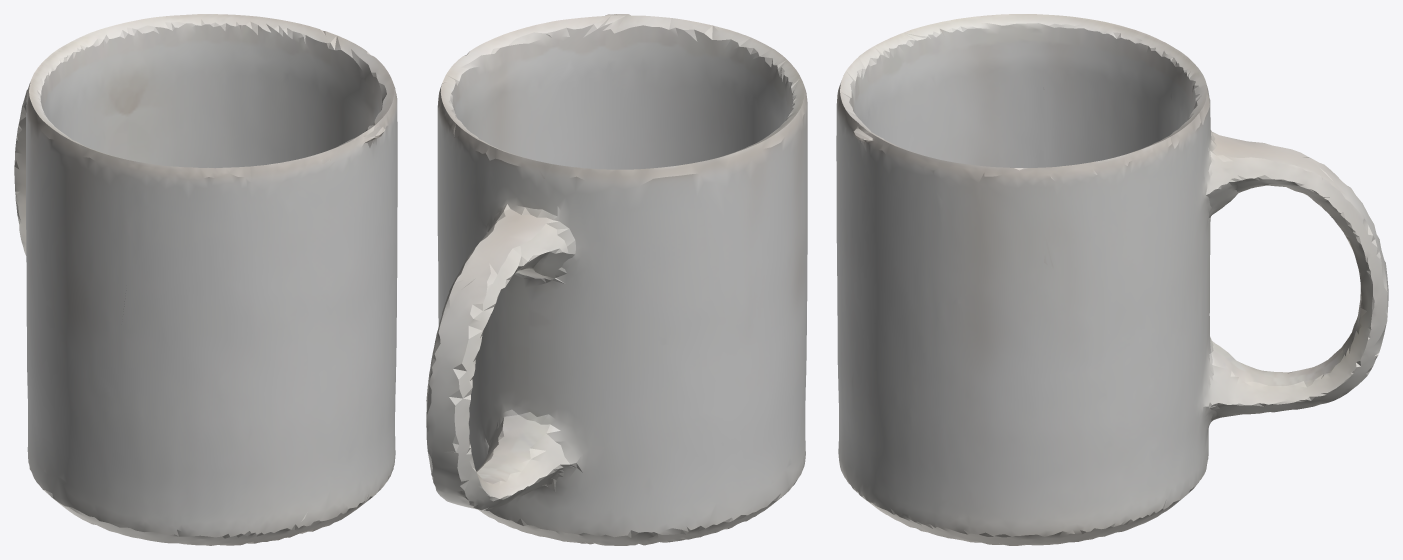
The model's file is mug.glb.
The picture shows the model from 3 angles, left to right: view 1: azimuth 30°, elevation 25°; view 2: azimuth 150°, elevation 25°; view 3: azimuth 270°, elevation 25°; orthographic projection.
Visible parts, largest first — view 1: SimpleWhiteCoffeeMug; view 2: SimpleWhiteCoffeeMug; view 3: SimpleWhiteCoffeeMug.
Boxes of the visible parts, <box> form: SimpleWhiteCoffeeMug: <box>14,14,397,545</box>; SimpleWhiteCoffeeMug: <box>426,14,807,545</box>; SimpleWhiteCoffeeMug: <box>836,14,1388,545</box>.
Size of the model in its own units: 1.28 by 1.47 by 1.9.
Materials: 1 (1 with a texture image).
